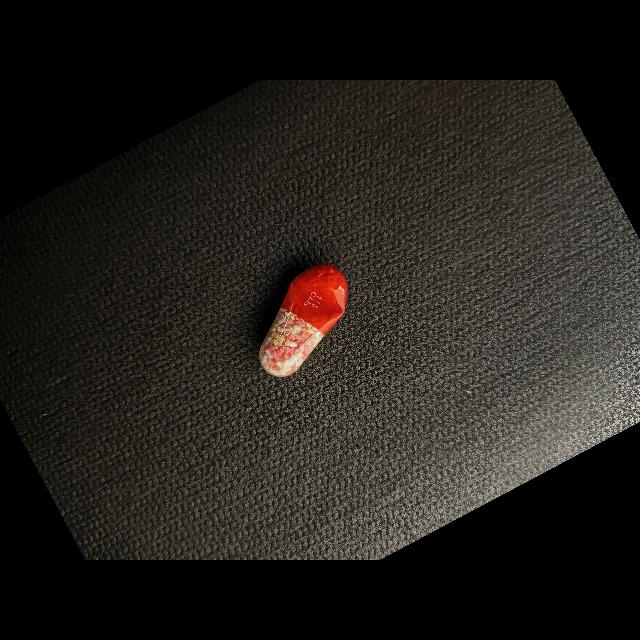Defective Capsule: (259, 265, 348, 377)
